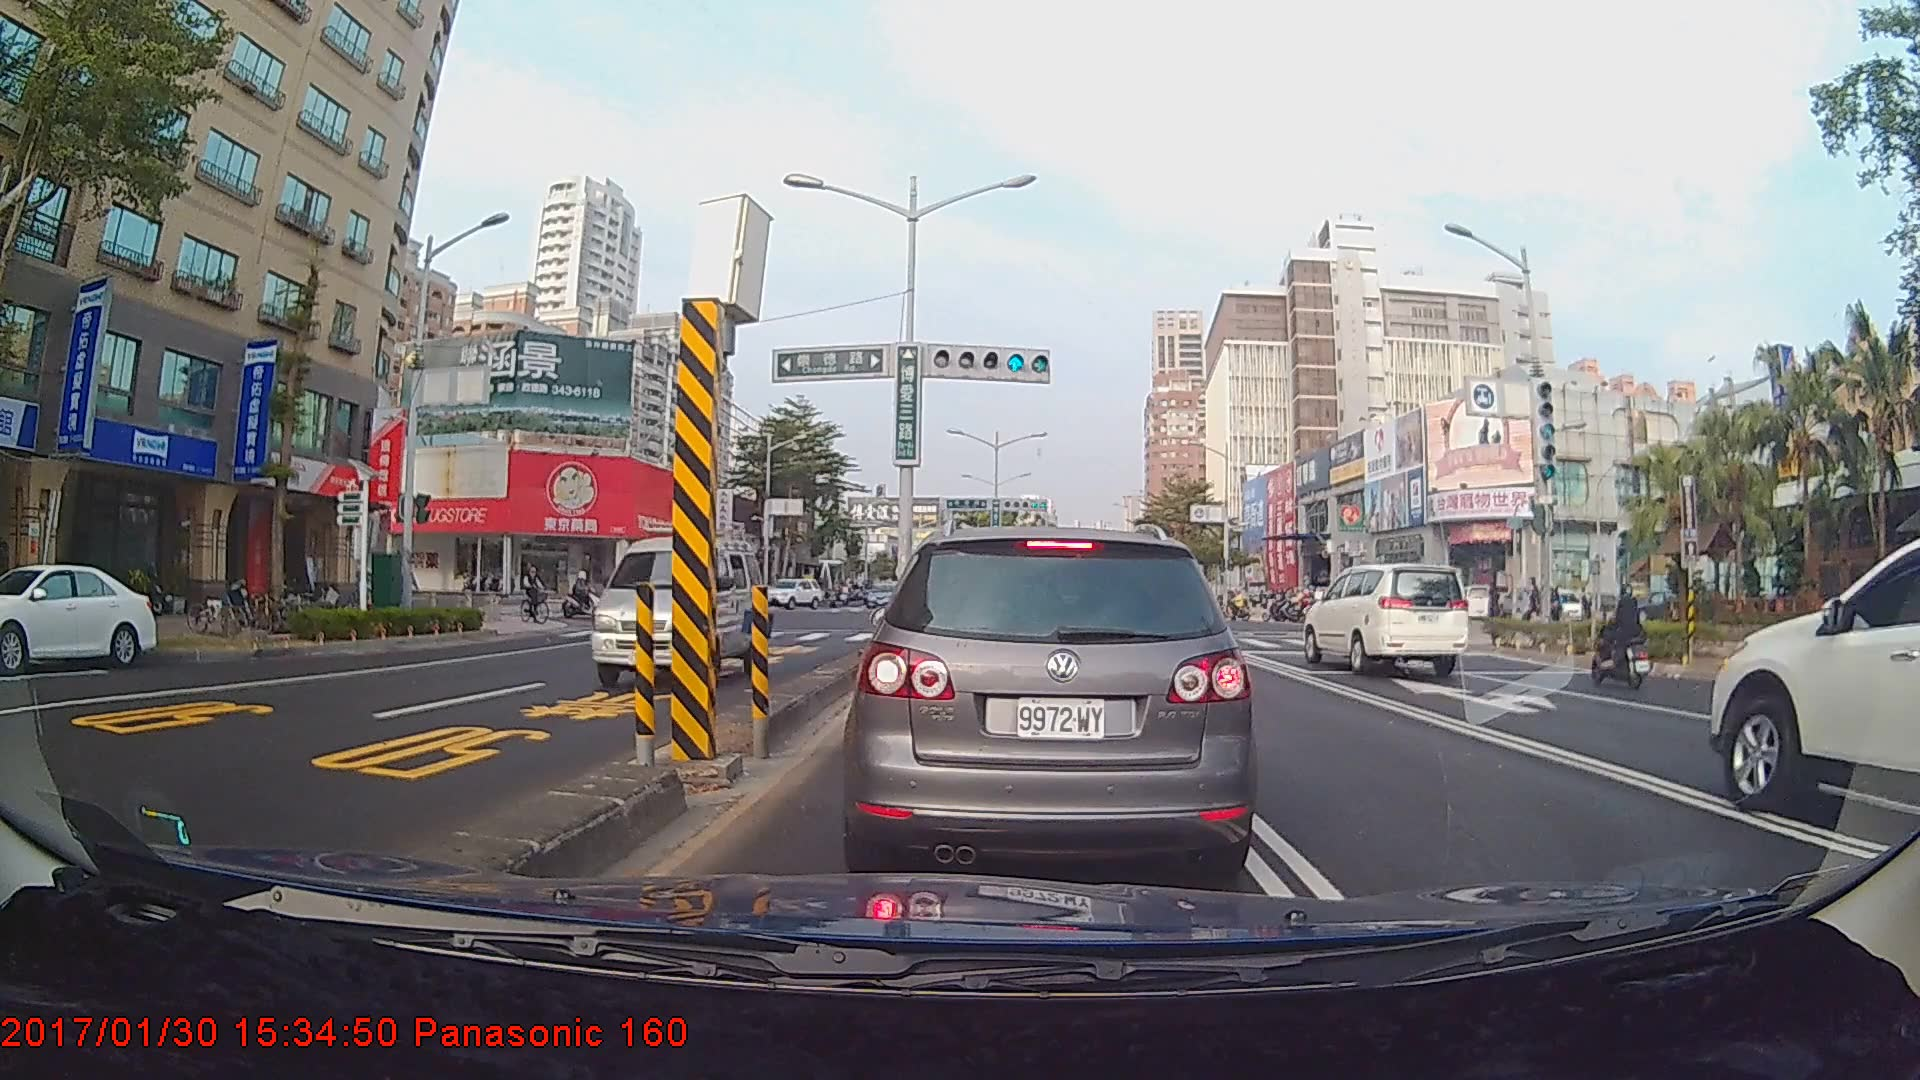pedestrian: (1487, 579, 1508, 637)
rider: (1583, 586, 1657, 688), (563, 568, 614, 625), (518, 559, 555, 629)
vehicle: (853, 523, 1249, 881), (1708, 514, 1920, 843), (586, 520, 766, 688), (1298, 561, 1471, 673), (0, 561, 158, 671), (864, 579, 902, 609)
